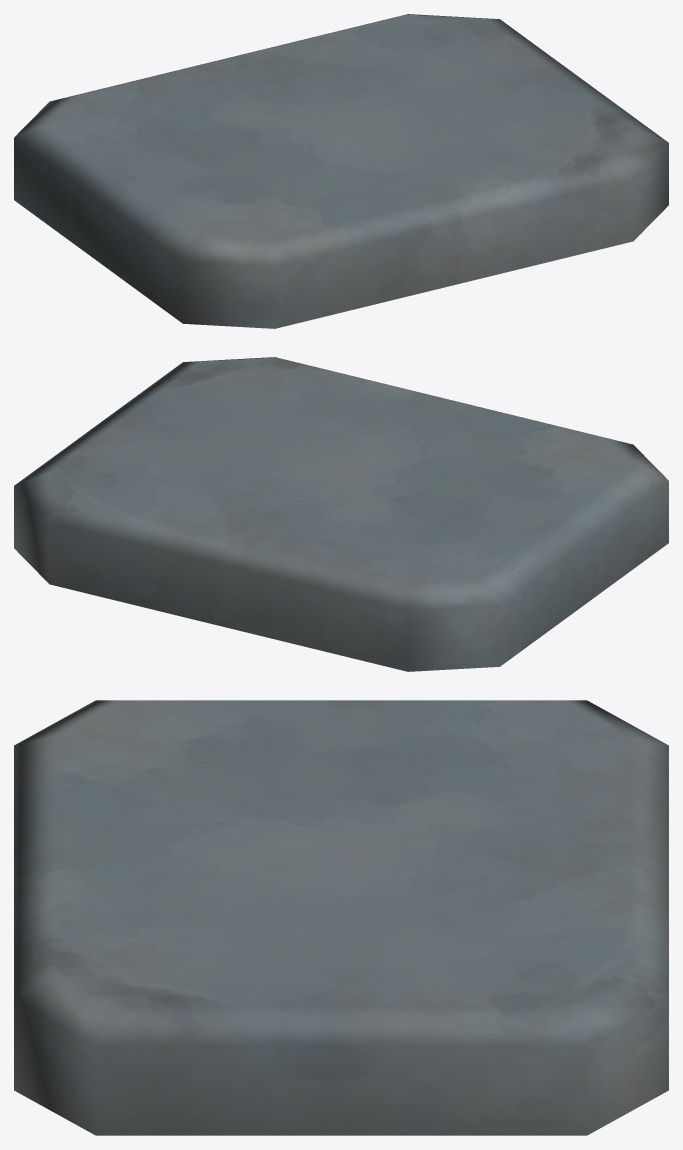
Rendered from stone_02.fbx.
3 views of the same model, one above another, from view 1: azimuth 30°, elevation 25°; view 2: azimuth 150°, elevation 25°; view 3: azimuth 270°, elevation 25° (orthographic). The views are drawn at different scales.
Parts seen in each view (by area): view 1: stone_02; view 2: stone_02; view 3: stone_02.
Part boxes in pixels (x1,y1,x2,y2): stone_02: (14,14,668,328); stone_02: (14,357,668,671); stone_02: (14,700,668,1135).
Bounding box in the file's own units: 59.03 × 8.76 × 47.41.
